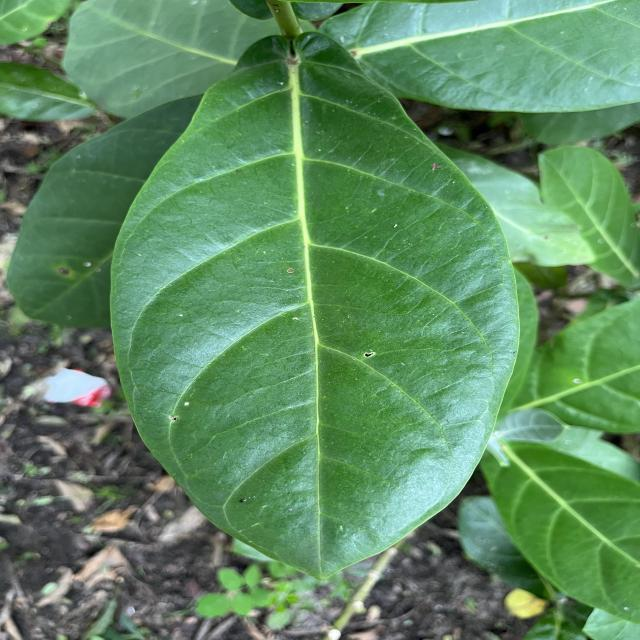Calotropis gigantea: (106, 24, 524, 586), (478, 438, 640, 626)
